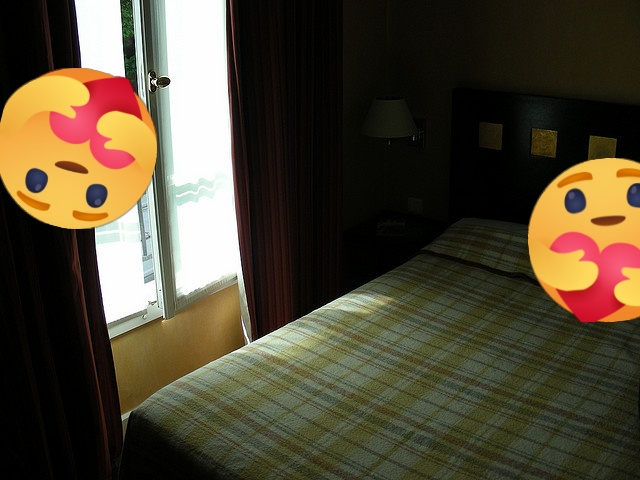care: (0, 68, 157, 229), (528, 158, 640, 322)
